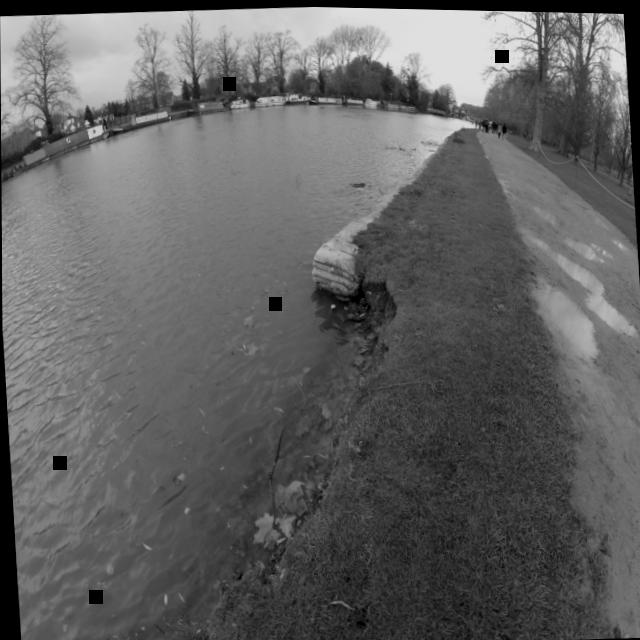Drink can: (330, 303, 335, 308)
